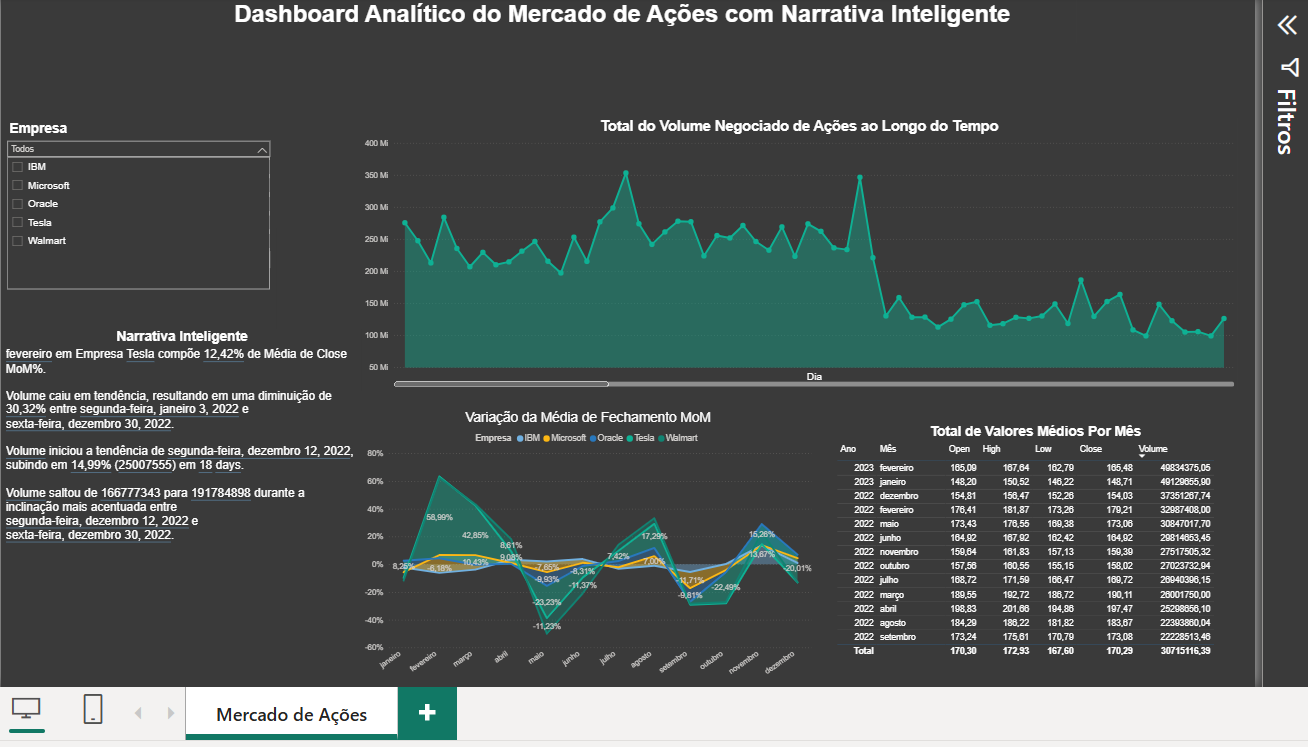

Layout of this report page (visuals, bound fields, positions):
{"tool":"powerbi","page":{"name":"Mercado de Ações","canvas":[1960,1080],"ordinal":0},"visuals":[{"type":"areaChart","title":"Total do Volume Negociado de Ações ao Longo do Tempo","fields":{"Category":["StockMarket.Data.Variation.Hierarquia de datas.Ano","StockMarket.Data.Variation.Hierarquia de datas.Trimestre","StockMarket.Data.Variation.Hierarquia de datas.Mês","StockMarket.Data.Variation.Hierarquia de datas.Dia"],"Y":["Sum(StockMarket.Volume)"]},"box":[562.8,190.7,1369.8,425.6],"z":0},{"type":"tableEx","title":"Total de Valores Médios Por Mês","fields":{"Values":["StockMarket.Data.Variation.Hierarquia de datas.Ano","StockMarket.Data.Variation.Hierarquia de datas.Mês","Avg(StockMarket.Open)","Avg(StockMarket.High)","Avg(StockMarket.Low)","Avg(StockMarket.Close)","Avg(StockMarket.Volume)"]},"box":[1301,667.3,631,413.4],"z":1000},{"type":"slicer","fields":{"Values":["StockMarket.Empresa"]},"box":[0,191,430.4,171.7],"z":2000},{"type":"stackedAreaChart","title":"Variação da Média de Fechamento MoM","fields":{"Category":["StockMarket.Data.Variation.Hierarquia de datas.Mês"],"Series":["StockMarket.Empresa"],"Y":["StockMarket.Média de Close MoM%"]},"box":[562.8,646.5,709.3,434.9],"z":3000},{"type":"textbox","title":"Narrativa Inteligente","box":[2.4,519.8,560.9,560.9],"z":4000},{"type":"slicer","fields":{"Values":["StockMarket.Data.Variation.Hierarquia de datas.Mês"]},"box":[2.4,362.7,427.9,157.2],"z":4001},{"type":"textbox","box":[261.1,0,1421.7,171.7],"z":4002}]}

Visuals, with their boxes on the page's 1960x1080 design canvas (x1, y1, x2, y2). These are canvas units, not pixel positions in the 1308x747 screenshot, which may show the page scaled, cropped or inside an application window:
"Total do Volume Negociado de Ações ao Longo do Tempo" areaChart: [x1=563, y1=191, x2=1933, y2=616]
"Total de Valores Médios Por Mês" tableEx: [x1=1301, y1=667, x2=1932, y2=1081]
slicer - StockMarket.Empresa: [x1=0, y1=191, x2=430, y2=363]
"Variação da Média de Fechamento MoM" stackedAreaChart: [x1=563, y1=646, x2=1272, y2=1081]
"Narrativa Inteligente" textbox: [x1=2, y1=520, x2=563, y2=1081]
slicer - StockMarket.Data.Variation.Hierarquia de datas.Mês: [x1=2, y1=363, x2=430, y2=520]
textbox: [x1=261, y1=0, x2=1683, y2=172]
